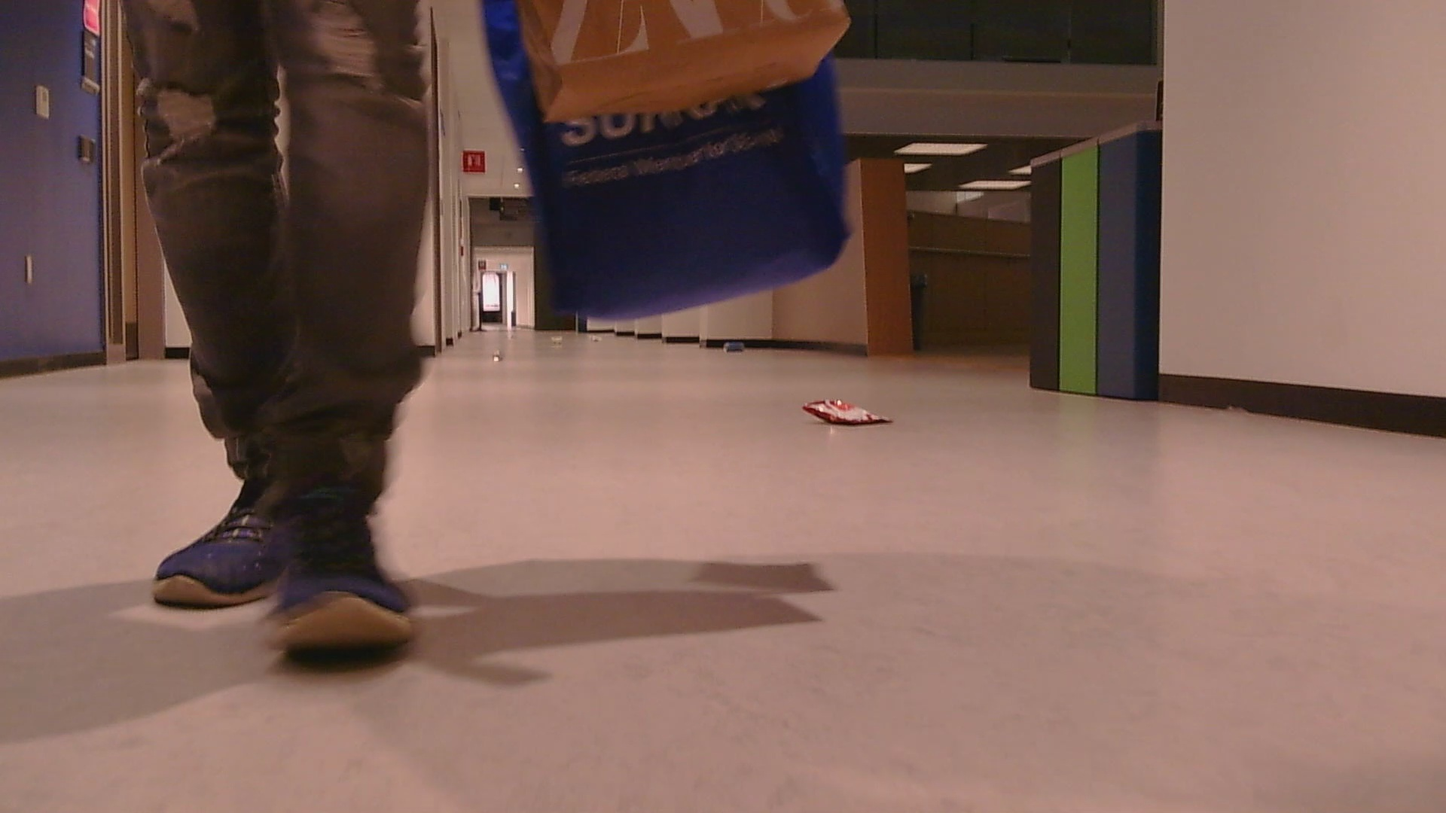carton: (782, 382, 906, 441)
